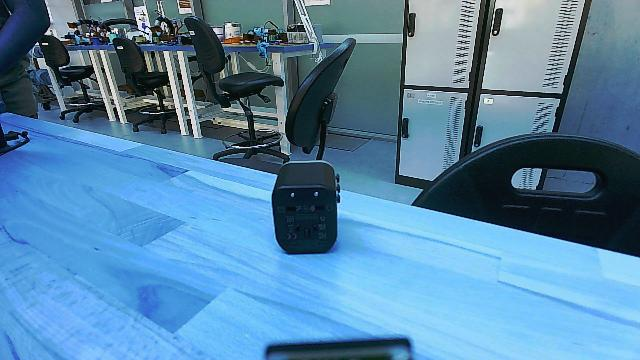adapter: (268, 156, 344, 256)
